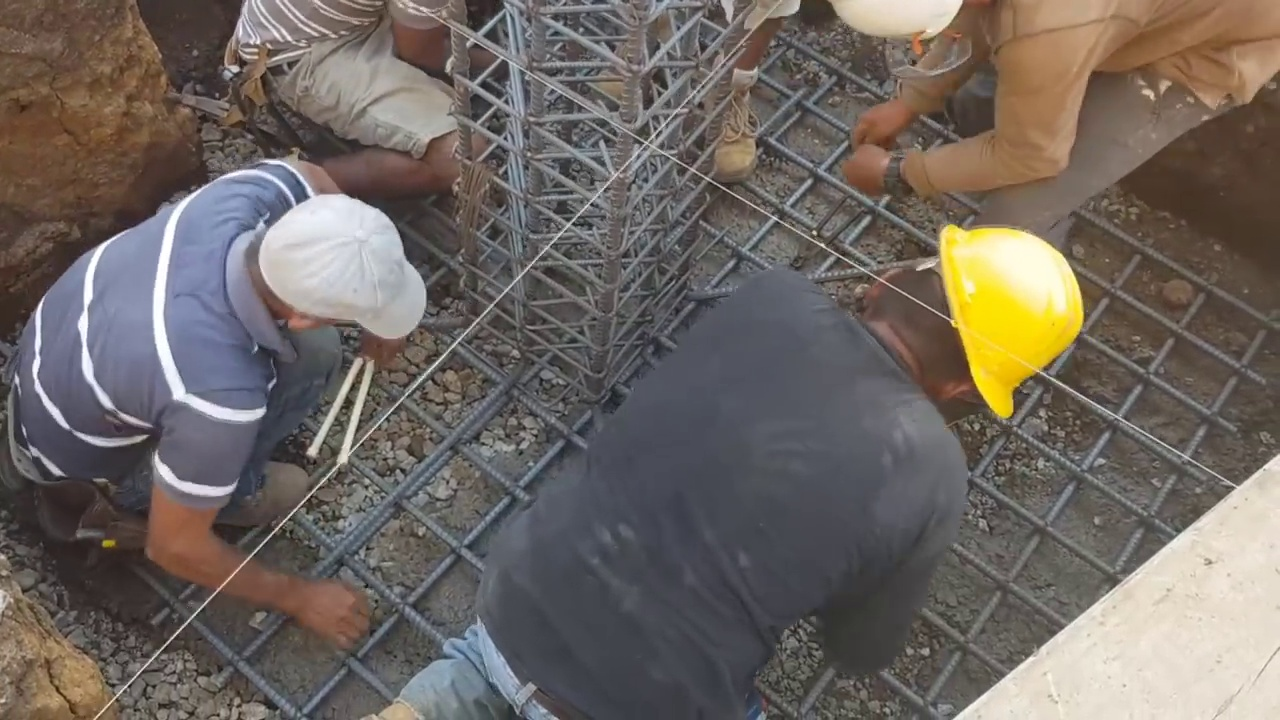helmet: (928, 227, 1083, 420), (832, 0, 973, 53)
helmet-off: (248, 204, 416, 369)
helmet-on: (850, 228, 1082, 434), (823, 0, 1015, 65)
person: (403, 225, 1087, 720), (0, 152, 442, 630), (824, 0, 1280, 234), (194, 0, 519, 196), (579, 0, 794, 196)
